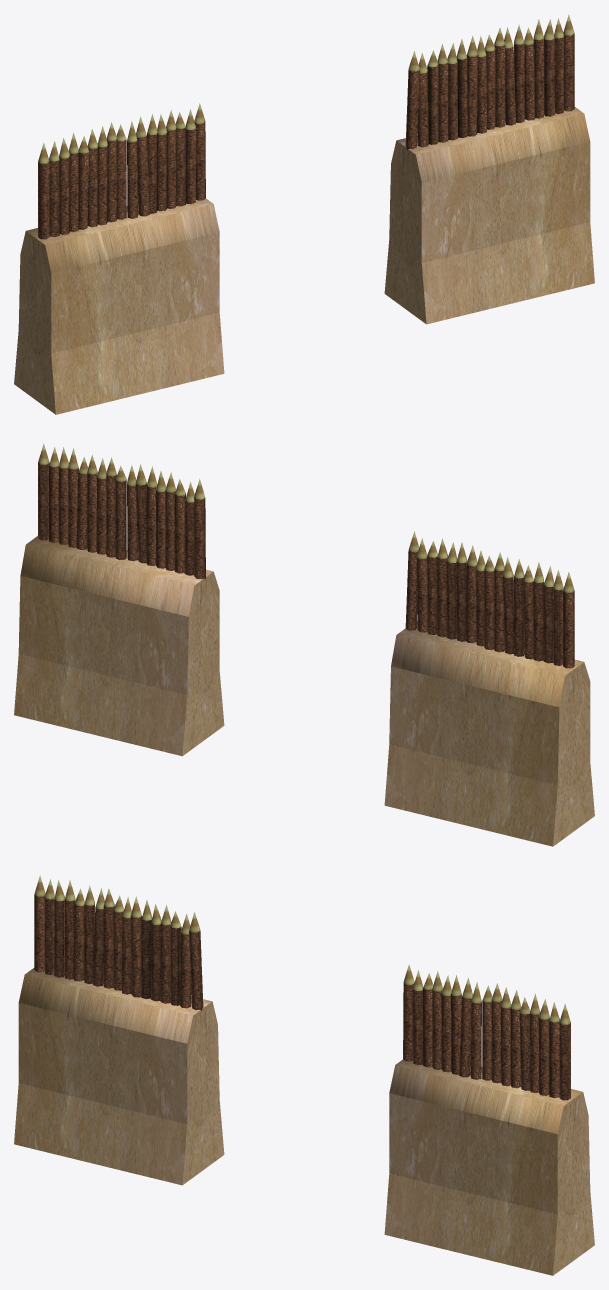
File: yayoi_wall_gate.dae
The picture shows the model from 3 angles, top to bottom: view 1: azimuth 30°, elevation 25°; view 2: azimuth 150°, elevation 25°; view 3: azimuth 330°, elevation 25°; orthographic projection.
Parts seen in each view (by area): view 1: wall_hate; view 2: wall_hate; view 3: wall_hate.
Boxes of the visible parts, left/top/right/bottom form: wall_hate: left=14, top=14, right=594, bottom=414; wall_hate: left=14, top=443, right=594, bottom=846; wall_hate: left=14, top=875, right=594, bottom=1275.
Size of the model in its own units: 33.57 by 4.52 by 15.49.
